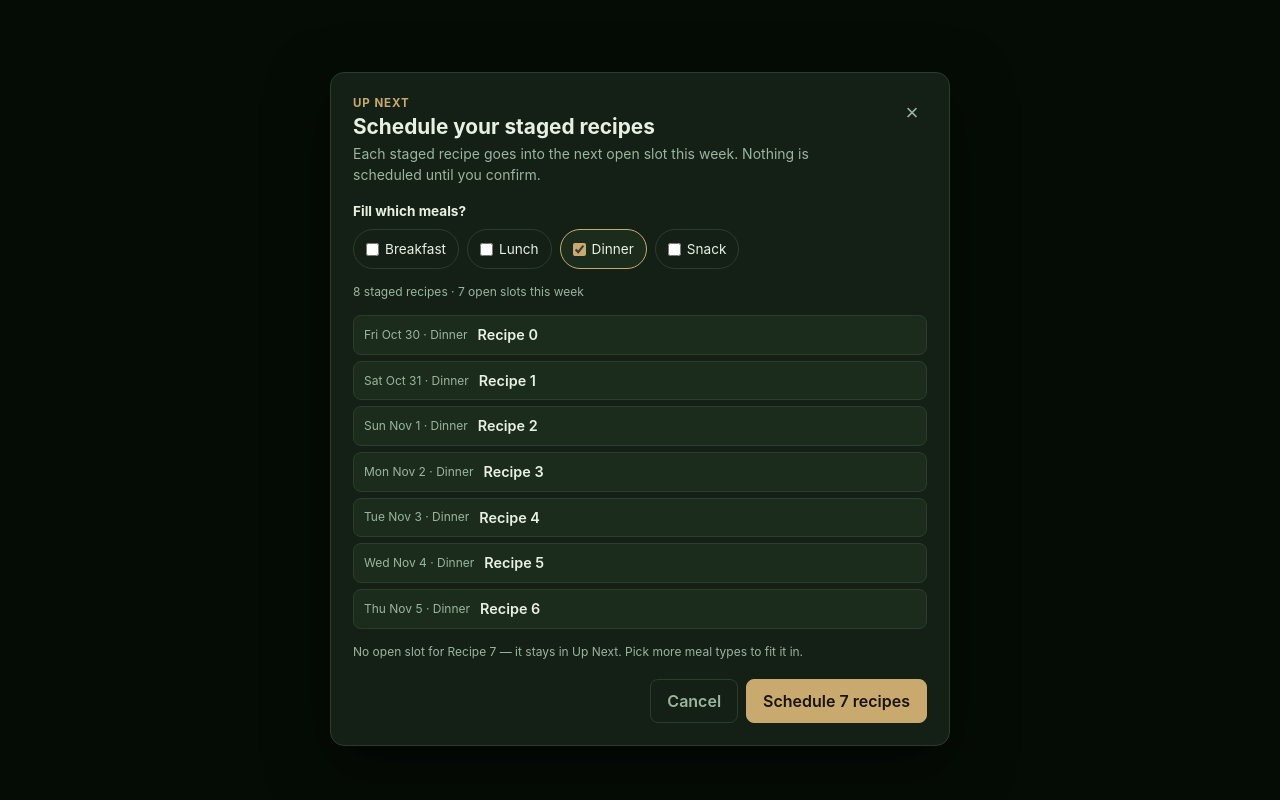
Test: BulkScheduleMeals › selecting another meal type widens the schedule
This screenshot has width=1280, height=800.
Step 1. Click the checkbox labelled "Breakfast" → (372, 249), box [366,243,379,256]
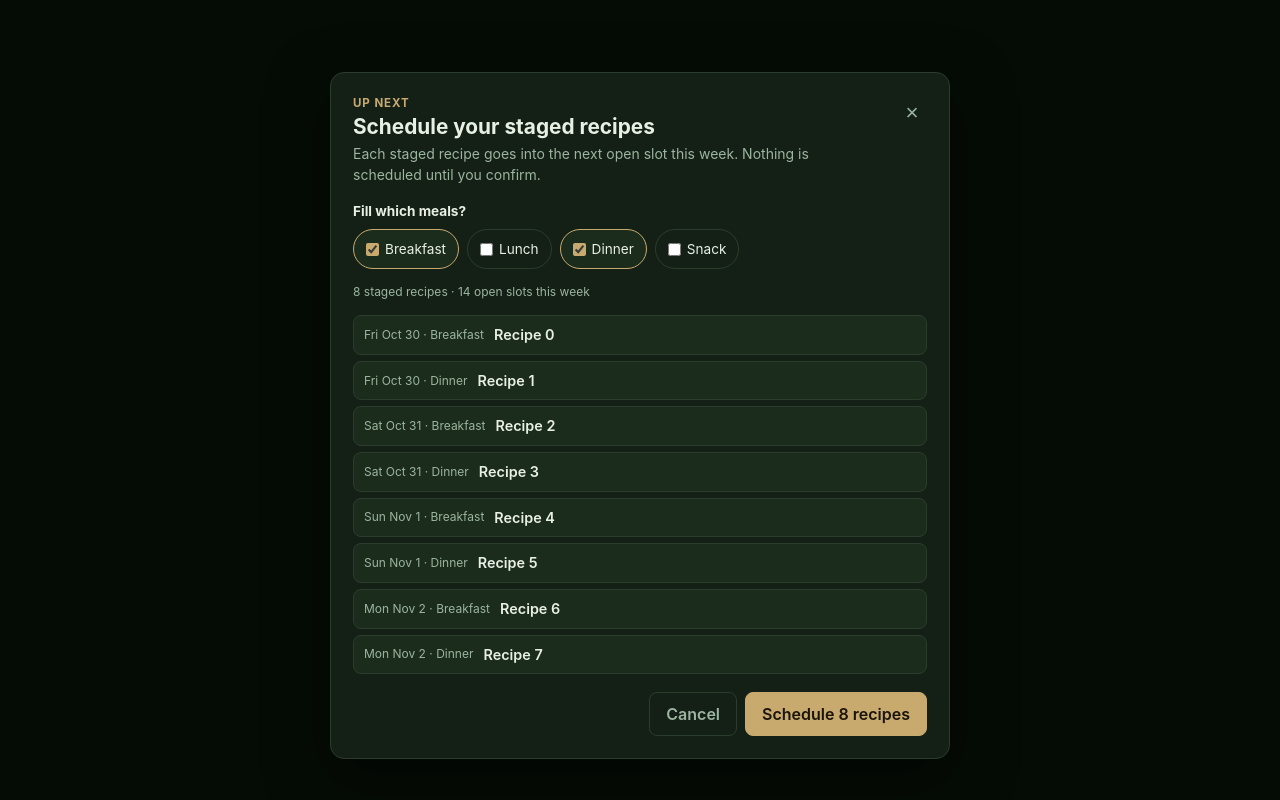
expect the button "Schedule 8 recipes" is enabled: met, box [745,692,927,736]
expect the text "8 staged recipes · 14 open slots this week" is shown: met, box [353,284,590,299]
